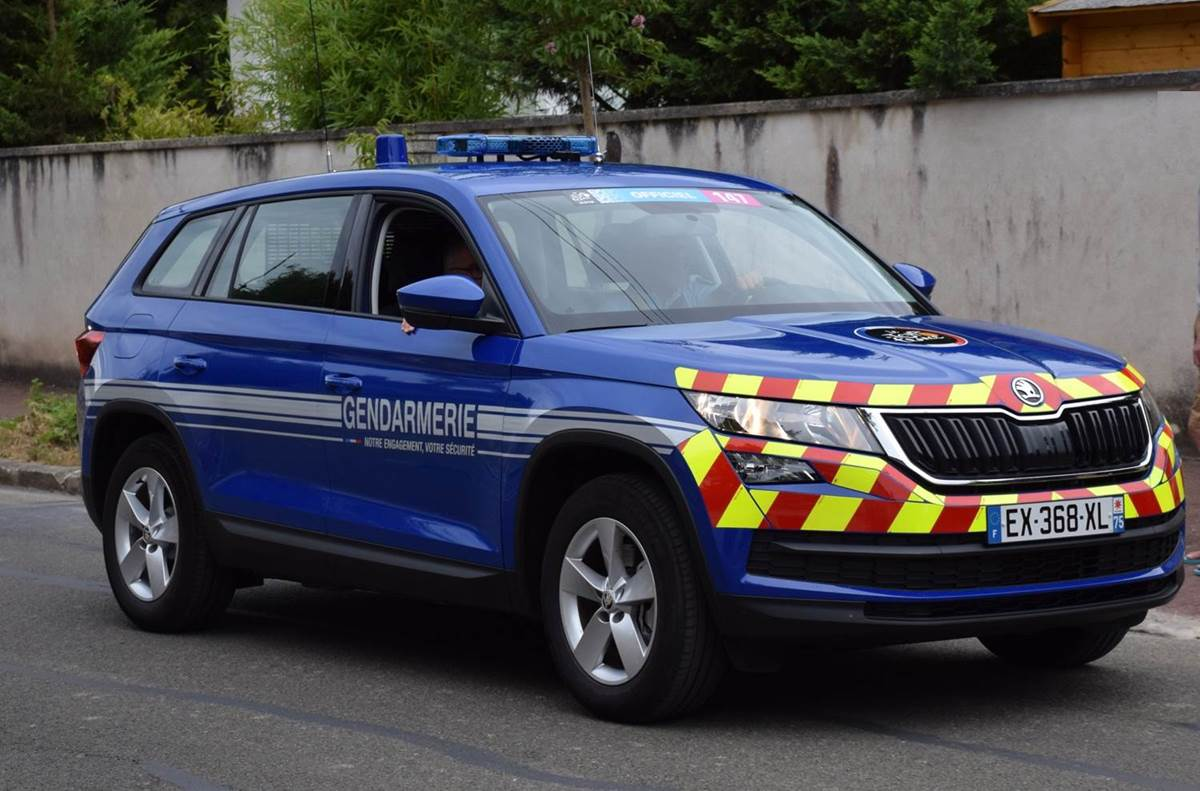license_plate: (986, 493, 1125, 545)
